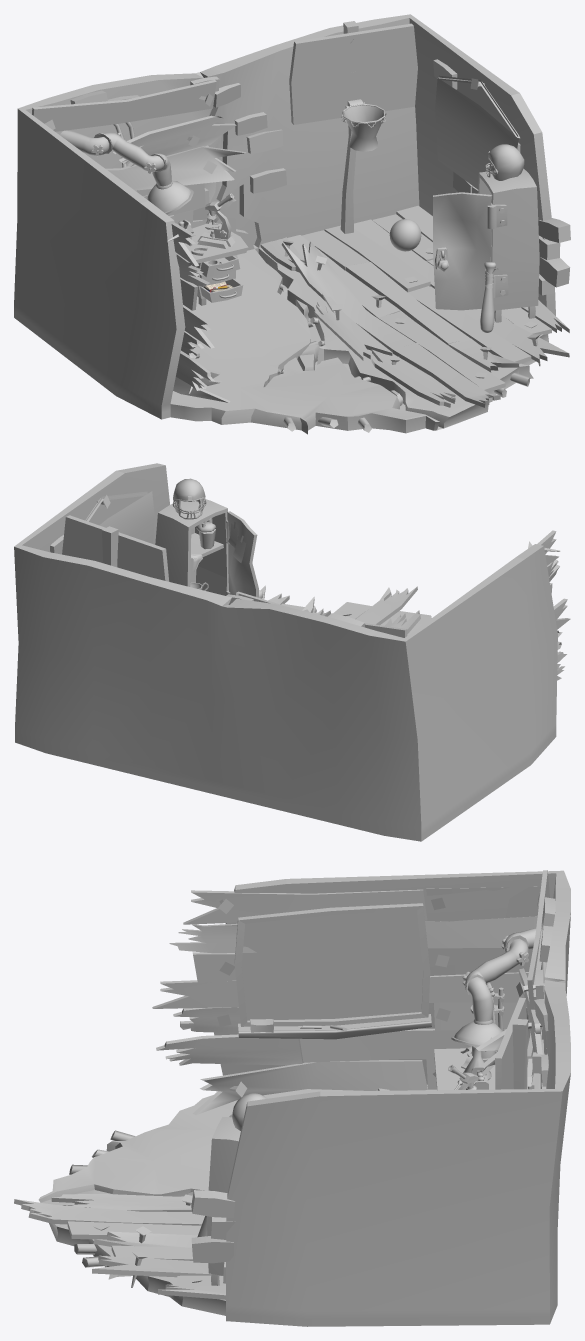
Rendered from Diorama.fbx.
The picture shows the model from 3 angles, top to bottom: view 1: azimuth 30°, elevation 25°; view 2: azimuth 150°, elevation 25°; view 3: azimuth 270°, elevation 25°; orthographic projection. The views are drawn at different scales.
Visible parts, largest first — view 1: BackDrop, Board1, Door, Locker, Banner, RegularPlankNoBottom1, ShreddedBentPlank2, ShreddedBentPlank1, RegularPlankNoBottom3, Table, DoubleShreddedMediumPlank2, RegularPlankNoBottom (+35 smaller); view 2: BackDrop, Locker, Board1, Banner, Door, ShreddedEdgePlankLong, Helmet, Pole1, RegularPlankNoBottom1; view 3: BackDrop, Chalkboard, ShreddedBentPlank, ShreddedPlankNormal, RegularPlankNoBottom7, ShreddedPlankBentShort, ShreddedEdgePlankLong, RegularPlankNoBottom9, Tray, Locker, ShortShreddedPlank, DoubleShreddedMediumPlank (+22 smaller).
Part boxes in pixels (<box>): BackDrop: <box>14,14,555,434</box>; Board1: <box>289,23,417,124</box>; Door: <box>433,192,491,310</box>; Locker: <box>478,168,539,310</box>; Banner: <box>435,75,519,189</box>; RegularPlankNoBottom1: <box>32,80,216,131</box>; ShreddedBentPlank2: <box>281,241,415,352</box>; ShreddedBentPlank1: <box>105,146,246,190</box>; RegularPlankNoBottom3: <box>345,262,470,344</box>; Table: <box>184,222,248,305</box>; DoubleShreddedMediumPlank2: <box>113,115,236,166</box>; RegularPlankNoBottom: <box>377,311,505,392</box>; BackDrop: <box>14,463,557,841</box>; Locker: <box>155,499,228,595</box>; Board1: <box>62,515,169,581</box>; Banner: <box>85,491,154,543</box>; Door: <box>227,511,258,597</box>; ShreddedEdgePlankLong: <box>355,586,417,625</box>; Helmet: <box>172,478,206,519</box>; Pole1: <box>102,526,118,567</box>; RegularPlankNoBottom1: <box>236,591,407,637</box>; BackDrop: <box>38,870,570,1326</box>; Chalkboard: <box>234,903,430,1026</box>; ShreddedBentPlank: <box>192,1060,427,1114</box>; ShreddedPlankNormal: <box>183,889,427,924</box>; RegularPlankNoBottom7: <box>300,1028,505,1062</box>; ShreddedPlankBentShort: <box>156,1034,302,1065</box>; ShreddedEdgePlankLong: <box>14,1199,204,1225</box>; RegularPlankNoBottom9: <box>425,916,537,948</box>; Tray: <box>238,1014,431,1039</box>; Locker: <box>206,1117,240,1275</box>; ShortShreddedPlank: <box>152,980,238,1008</box>; DoubleShreddedMediumPlank: <box>51,1194,191,1211</box>.
Bounding box in the file's own units: 16.25 × 8.7 × 16.5.
